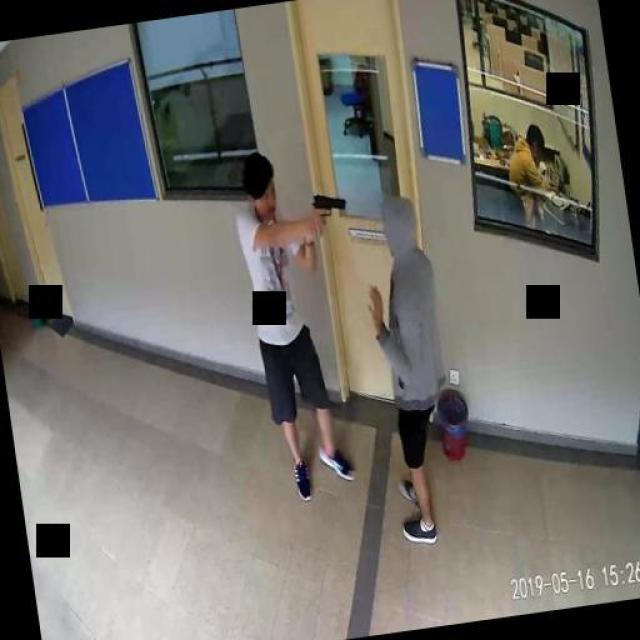gun: (310, 188, 349, 234)
